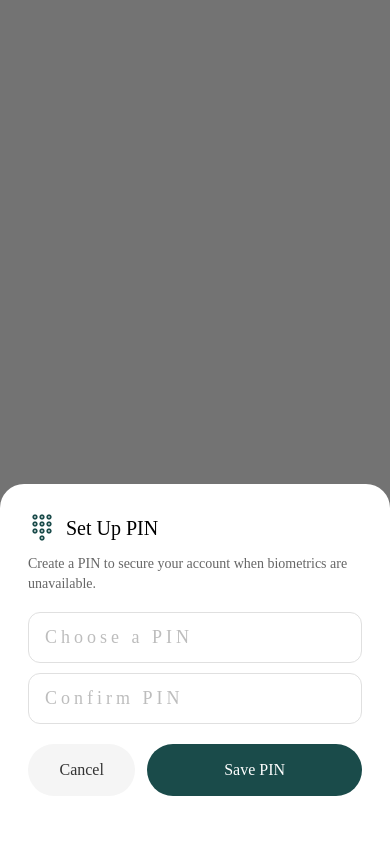
Test: PinFallbackModal (setup mode) › shows error when PIN is too short
The width and height of the screenshot is (390, 844).
Type "12" into the password field with test id "pin-input".
click(195, 638); type("12")  # box [28,612,362,663]
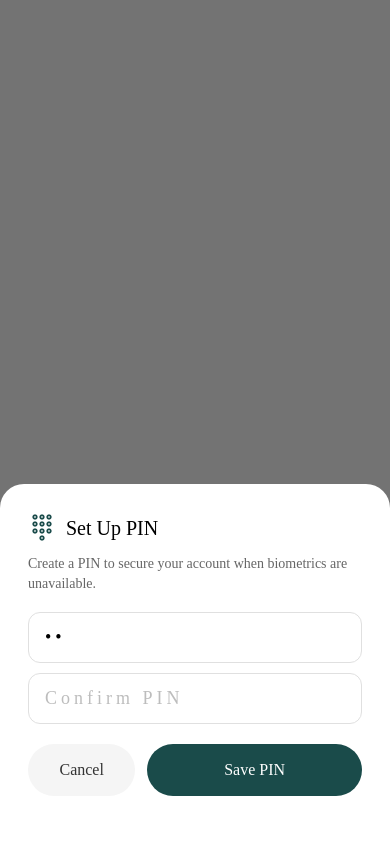
Type "12" into the password field with test id "pin-confirm-input".
click(195, 698); type("12")  # box [28,673,362,724]
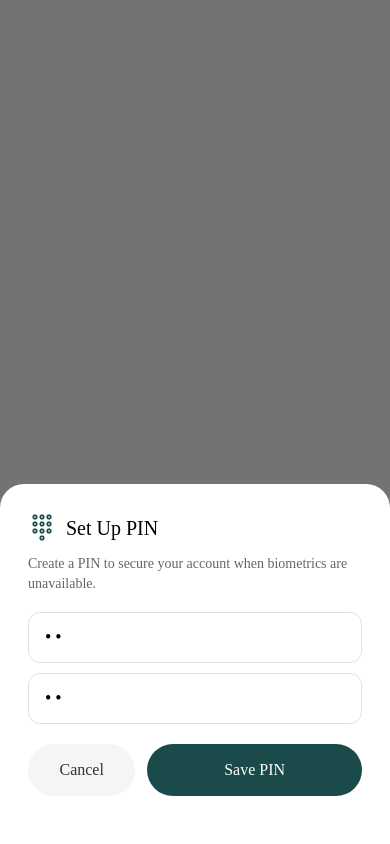
Click the button with test id "pin-submit-button".
click(255, 770)  # box [147,744,362,796]
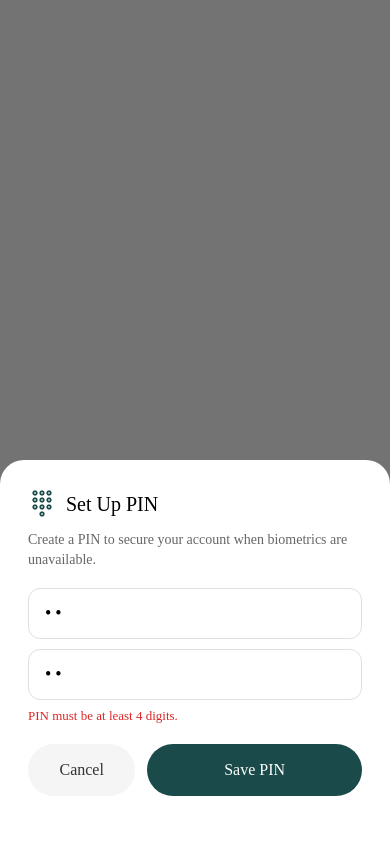
Check: the text "PIN must be at least 4 digits." is shown, box [28,708,178,723]
